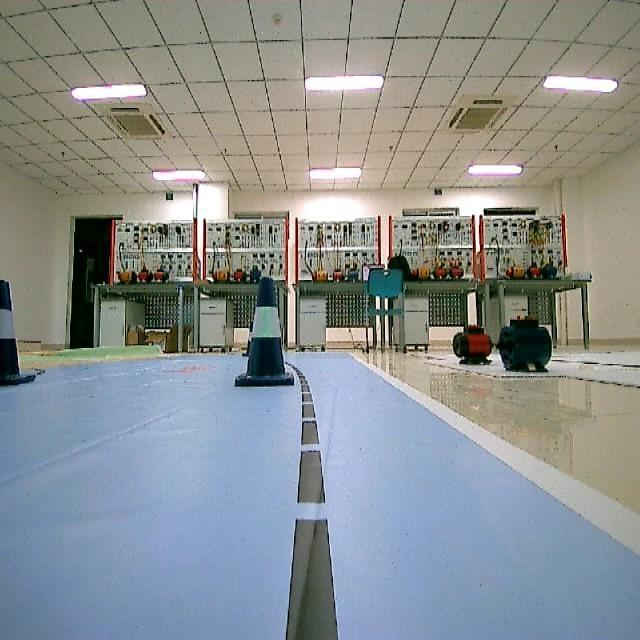obstacle: (227, 274, 300, 392)
